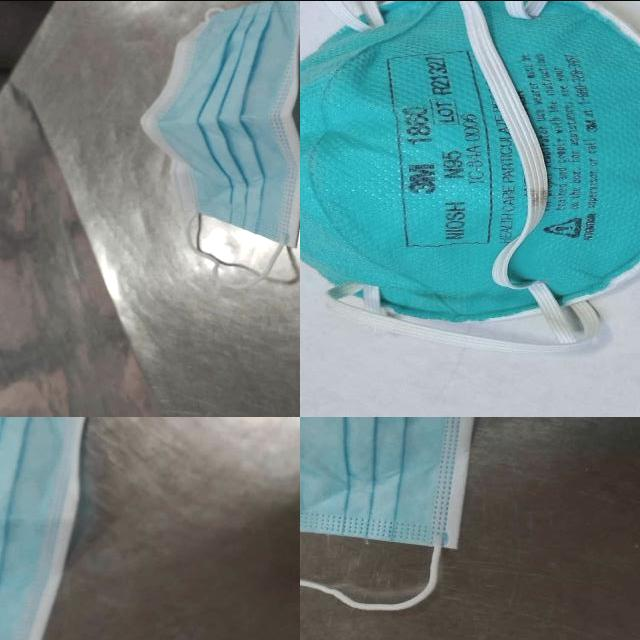General: (297, 2, 638, 340)
Infectious: (138, 1, 300, 248)
Sharps: (456, 2, 600, 345), (298, 416, 476, 612)
